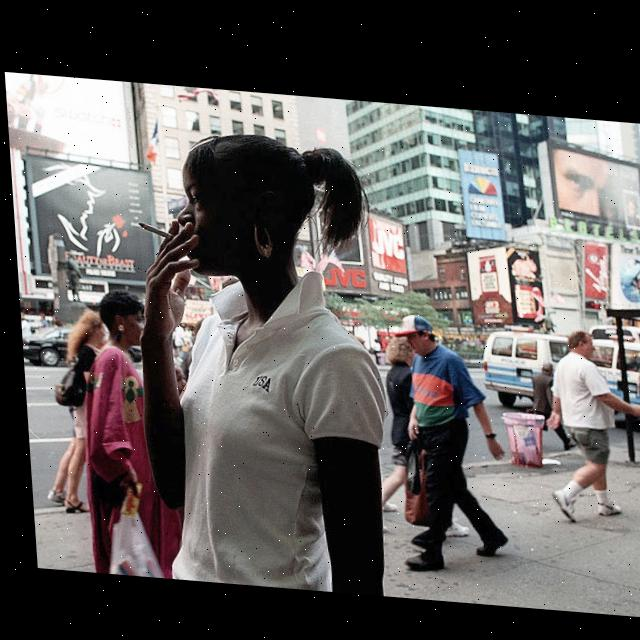cigarette: (135, 220, 172, 238)
